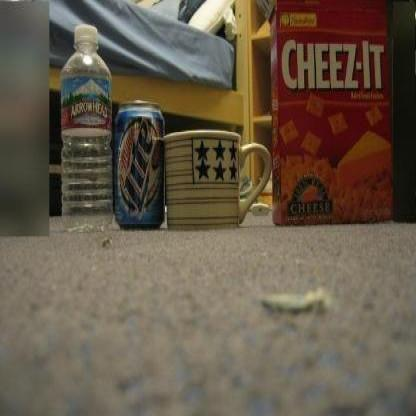alumunium_can: (114, 101, 166, 231)
objects: (162, 132, 272, 232)
plastic_bottles: (60, 27, 114, 230)
